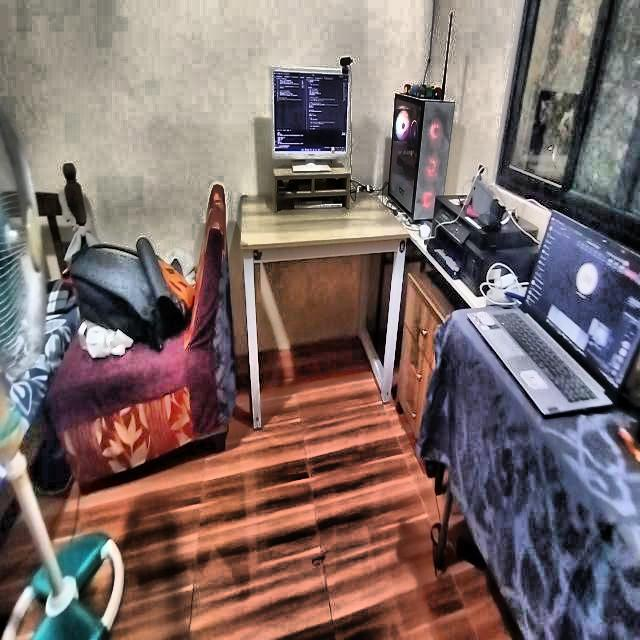mesa: (238, 181, 412, 425)
